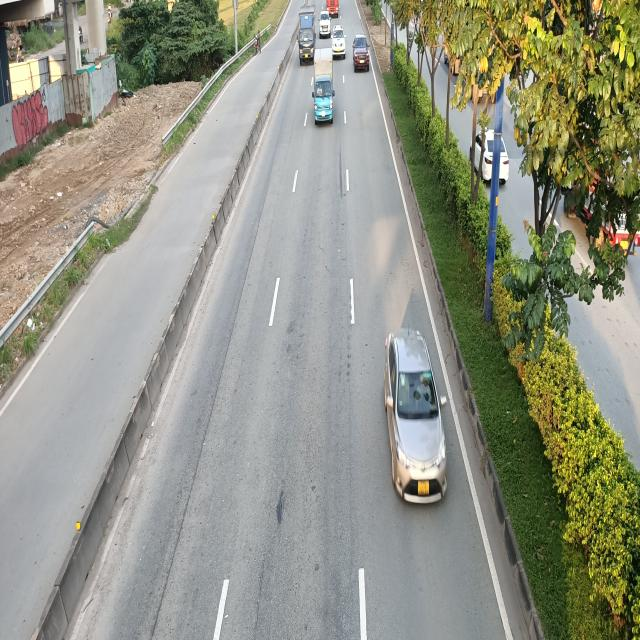car: (383, 330, 449, 504), (352, 34, 369, 74), (332, 26, 348, 58)
truck: (311, 49, 335, 124), (296, 6, 316, 65)
